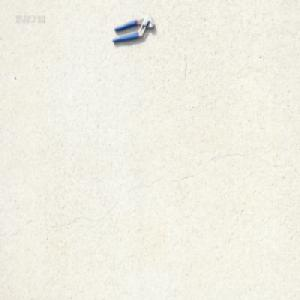Pliers: (111, 14, 155, 43)
